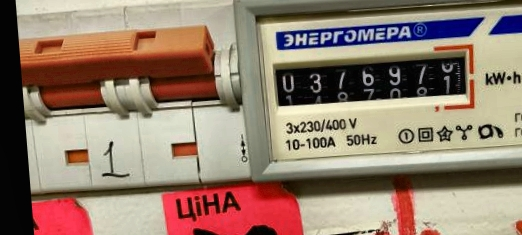0: (279, 70, 296, 93)
1: (441, 73, 452, 95)
3: (307, 71, 322, 93)
6: (359, 63, 376, 87)
7: (333, 66, 349, 90), (413, 59, 429, 83)
9: (386, 63, 402, 86)
screen: (262, 39, 481, 127)
